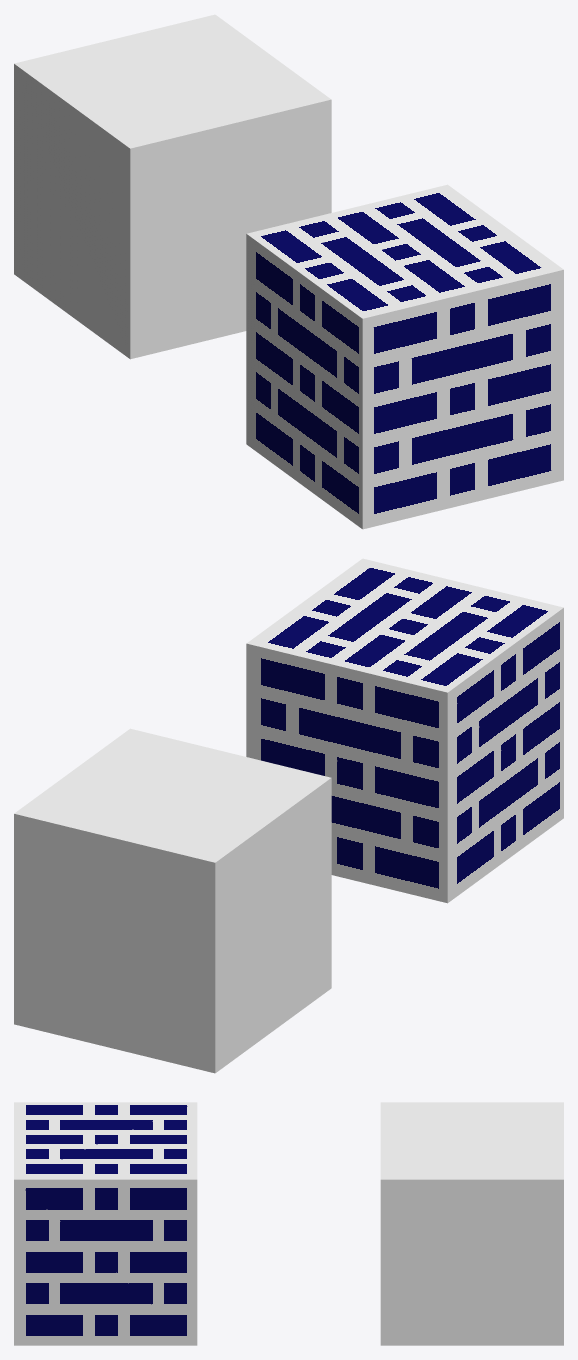
File: misc.glb
3 renders of one model, top to bottom at view 1: azimuth 30°, elevation 25°; view 2: azimuth 150°, elevation 25°; view 3: azimuth 270°, elevation 25°, orthographic. The views are drawn at different scales.
Parts seen in each view (by area): view 1: Cube, Cube.001; view 2: Cube.001, Cube; view 3: Cube, Cube.001.
Boxes of the visible parts, x1=… form: Cube: x1=246, y1=184, x2=563, y2=529; Cube.001: x1=14, y1=14, x2=331, y2=359; Cube.001: x1=14, y1=728, x2=331, y2=1073; Cube: x1=246, y1=558, x2=563, y2=903; Cube: x1=14, y1=1102, x2=197, y2=1345; Cube.001: x1=380, y1=1102, x2=563, y2=1345.
Size of the model in its own units: 1 by 1 by 3.
3 materials, 1 textured.
